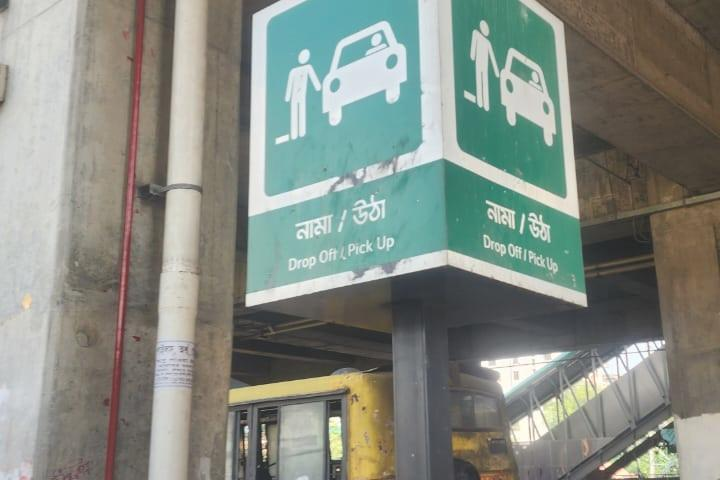Metro Dorp Up Pick up: (248, 0, 587, 322)
